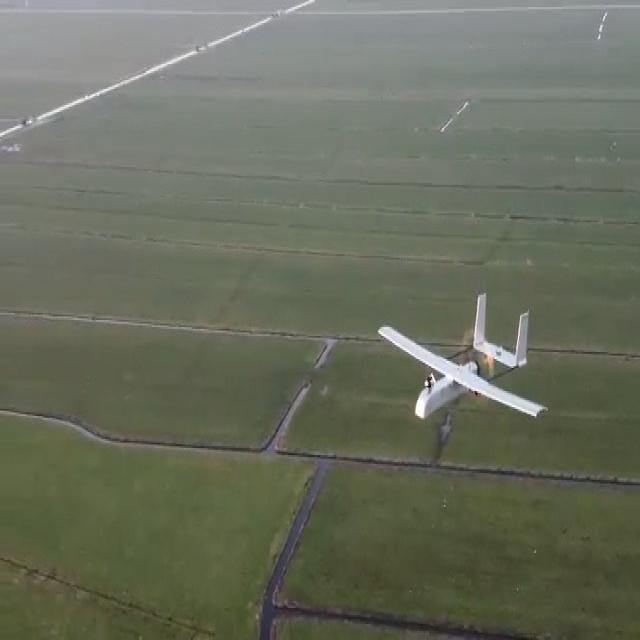iha: (378, 306, 545, 436)
